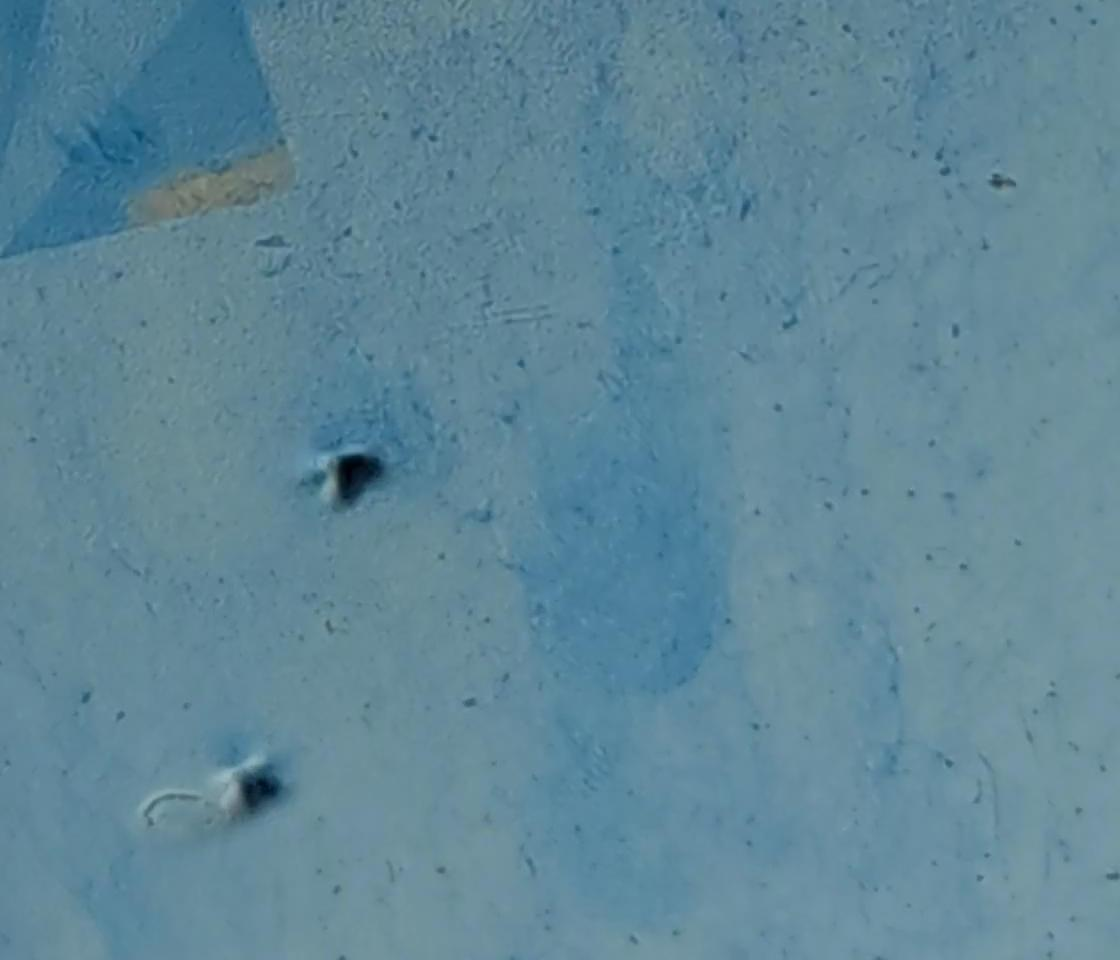scratch: (138, 788, 206, 823)
